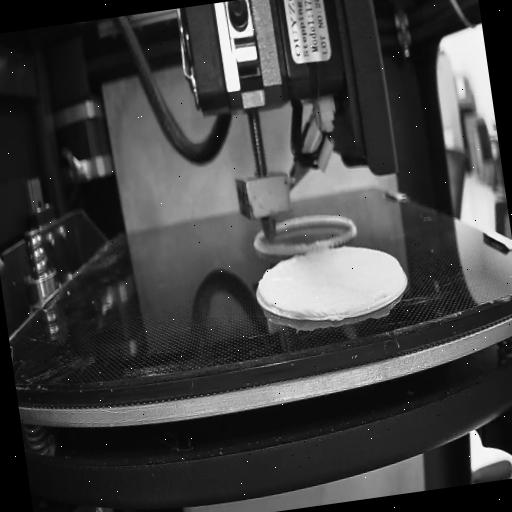over_extrusion: (254, 265, 280, 309)
